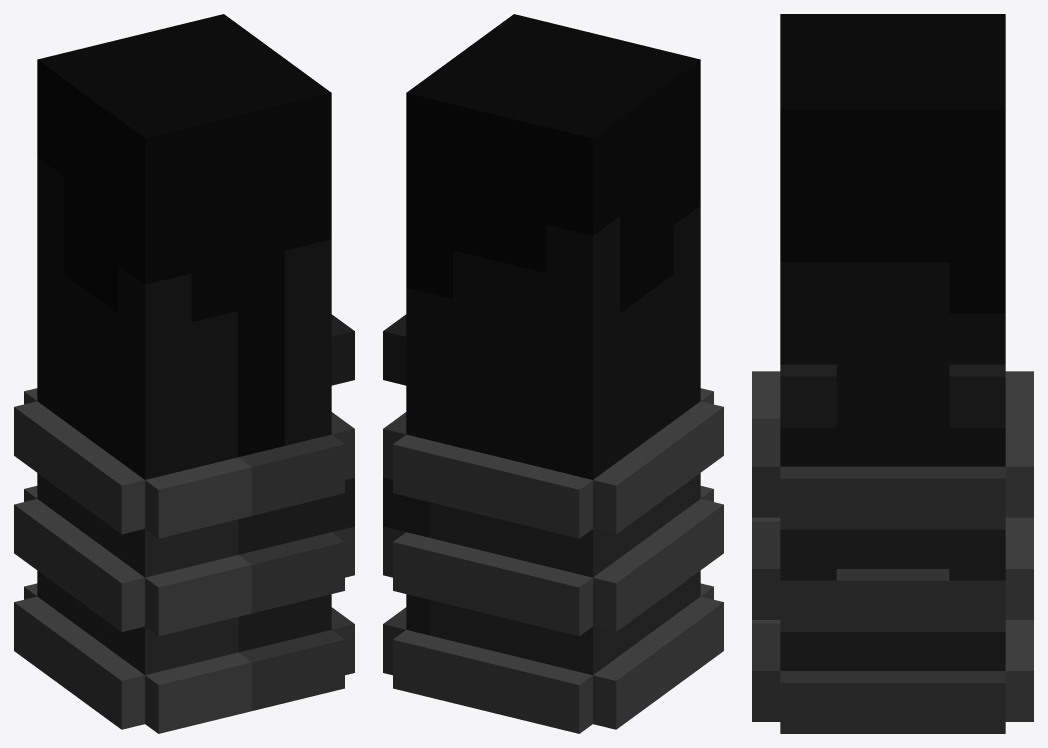
File: rightArm.obj
The picture shows the model from 3 angles, left to right: view 1: azimuth 30°, elevation 25°; view 2: azimuth 150°, elevation 25°; view 3: azimuth 270°, elevation 25°; orthographic projection. The views are drawn at different scales.
Bounding box in the file's own units: 1 × 2.4 × 1.
Materials: 1 (1 with a texture image).
